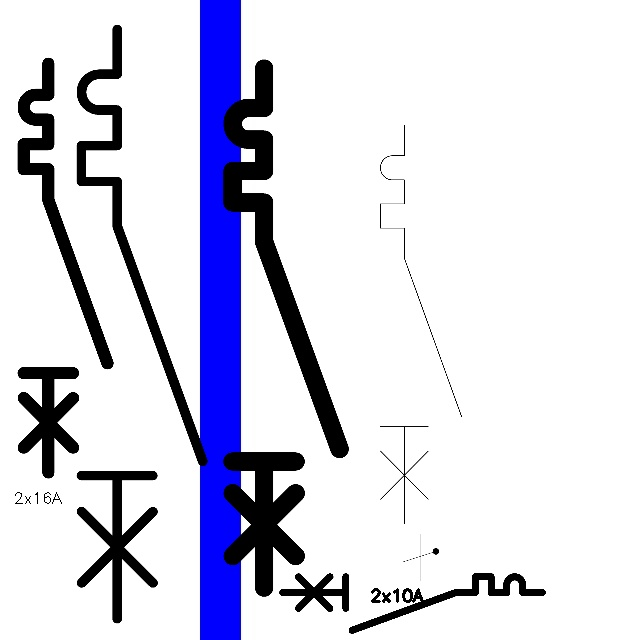interruptor_termomagnetico: (66, 14, 217, 634), (219, 55, 353, 601), (13, 53, 118, 483), (370, 115, 472, 534), (276, 570, 549, 637)
